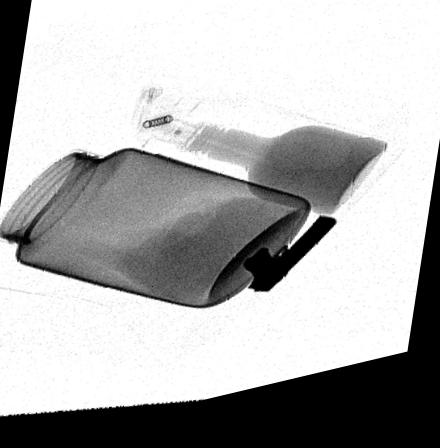Gun: (241, 229, 338, 304)
